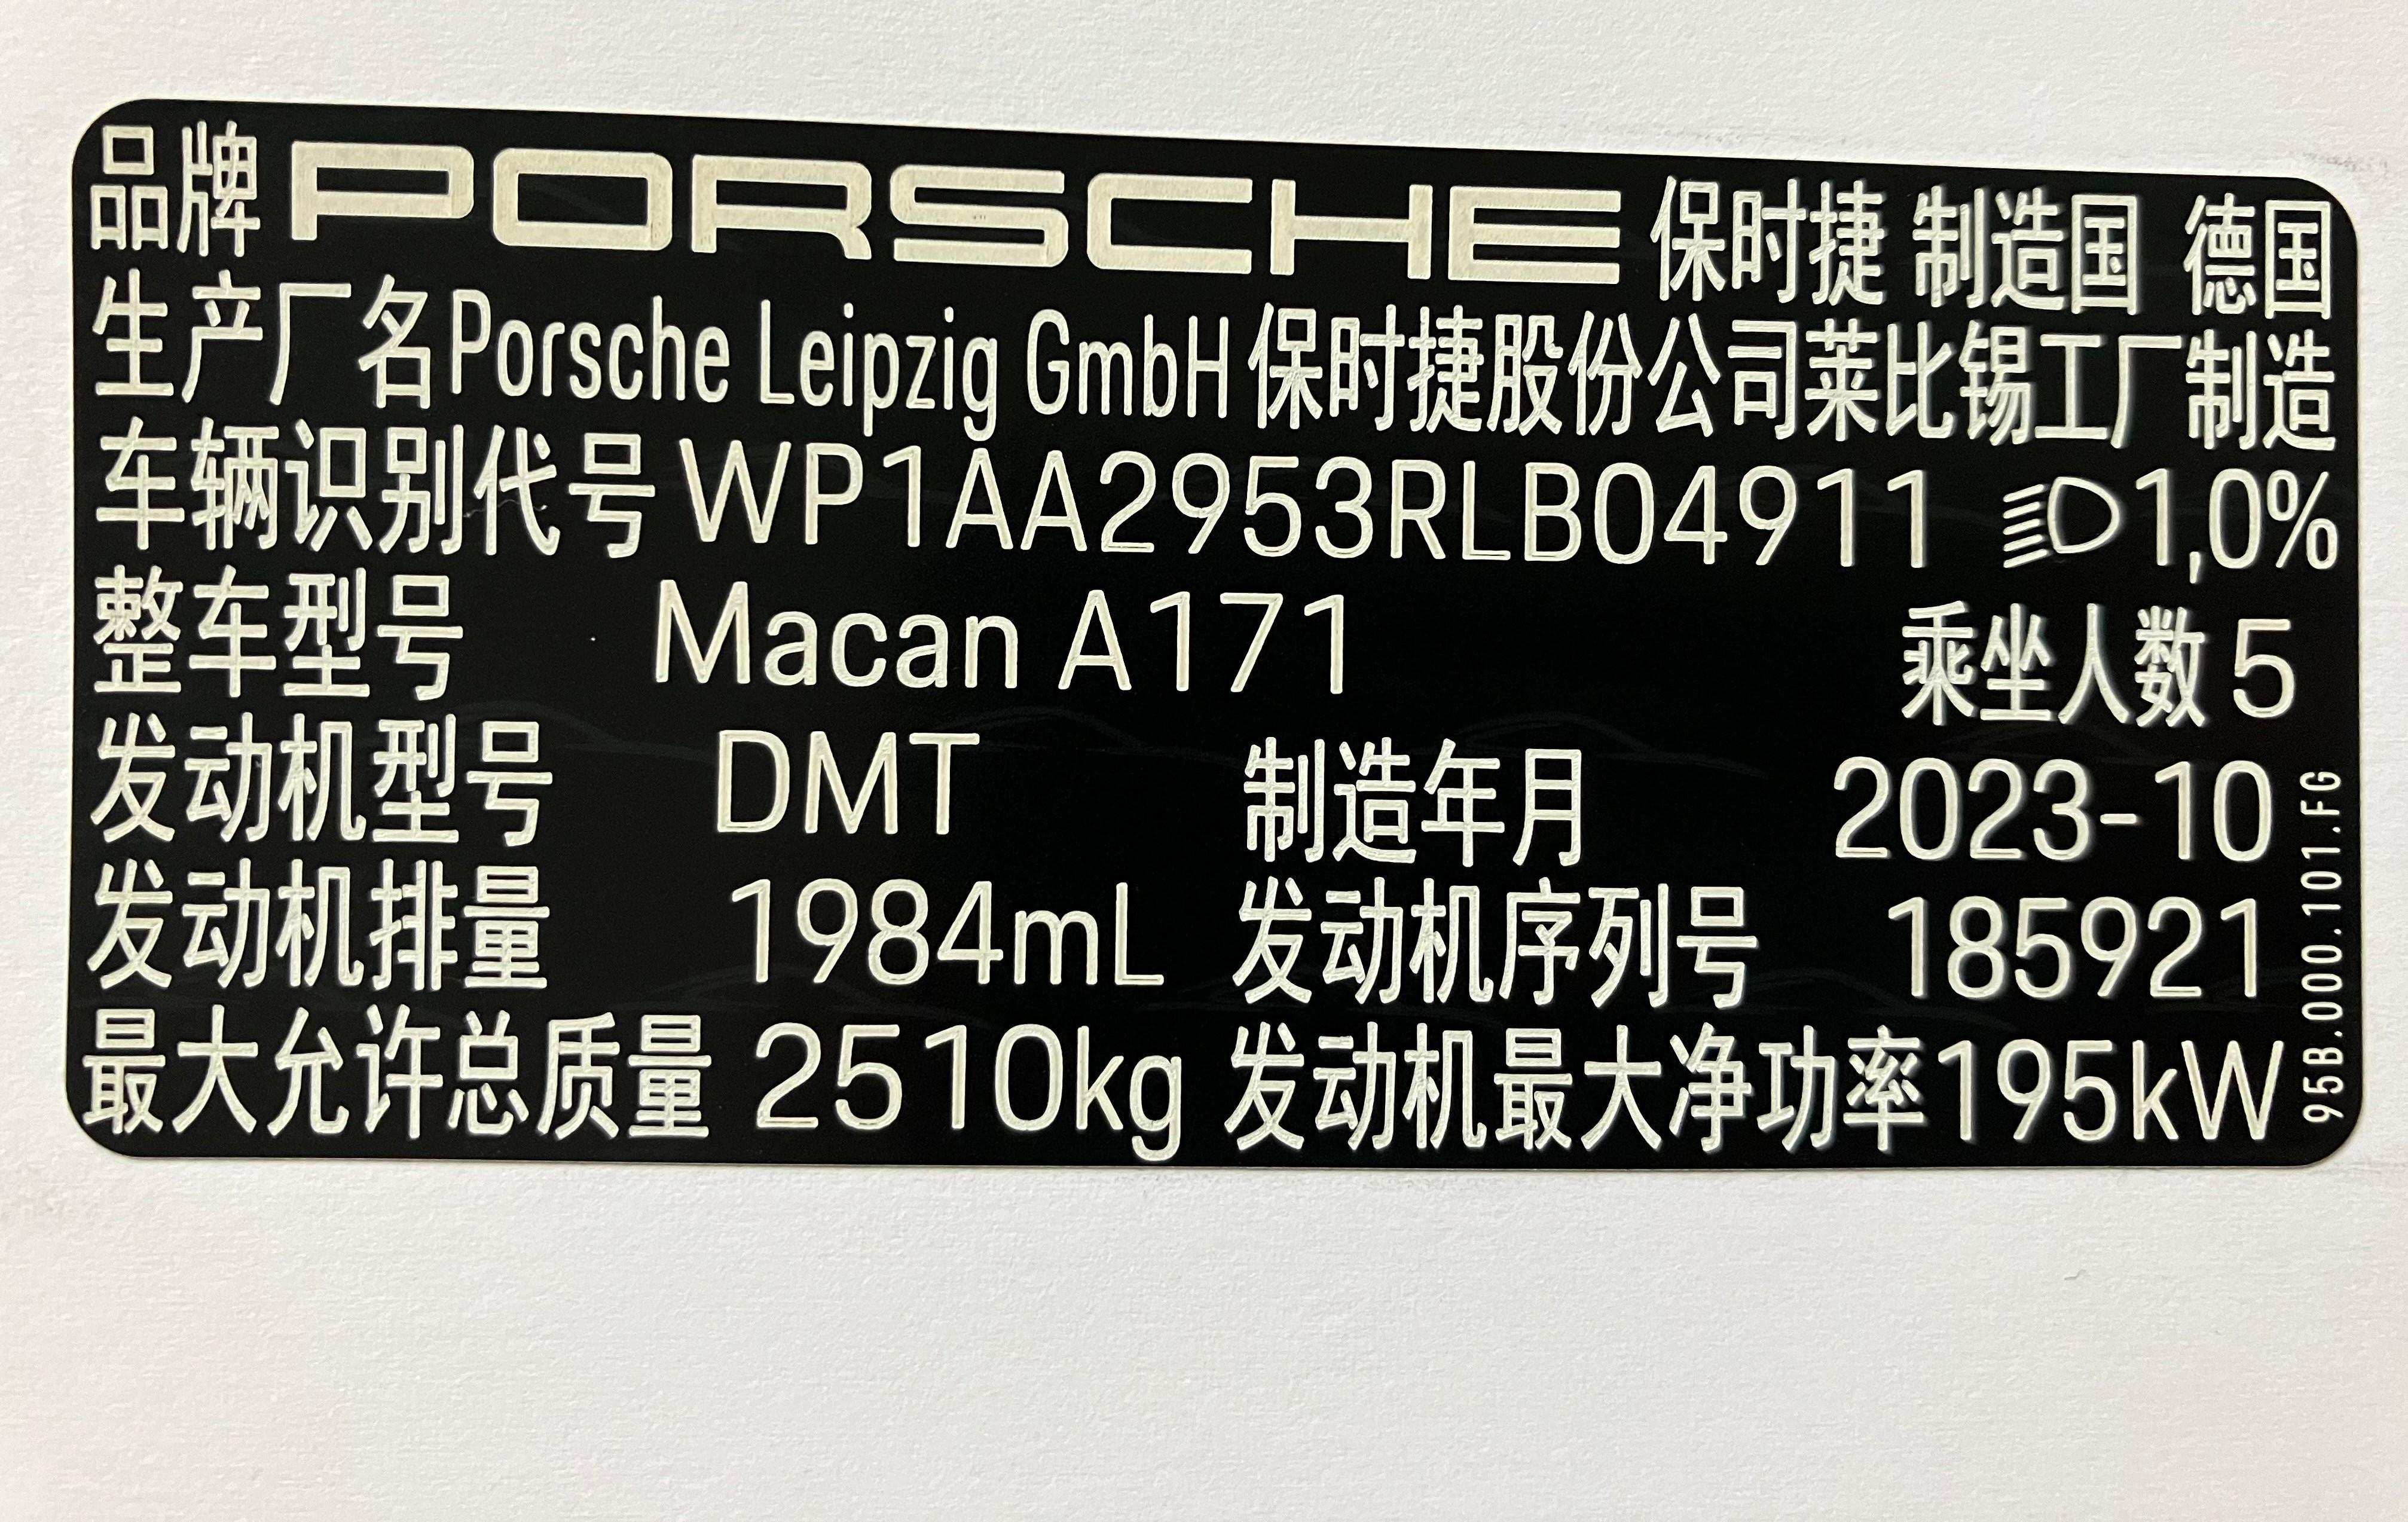Typlabel-China: (67, 98, 2362, 1166)
